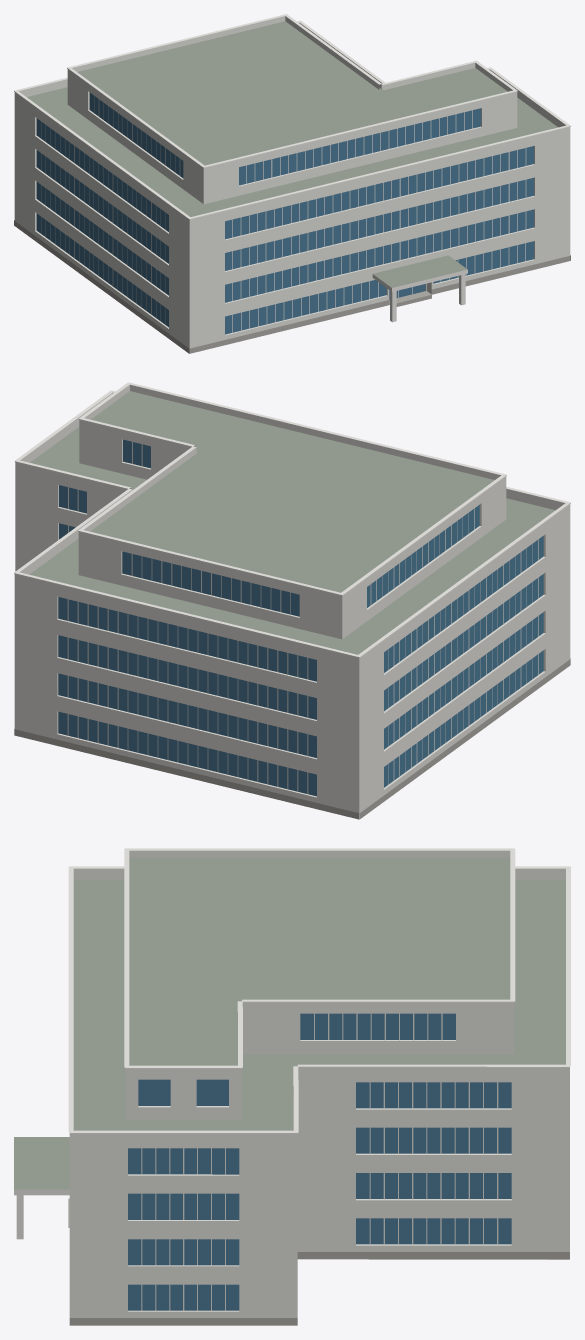
The picture shows the model from 3 angles, top to bottom: view 1: azimuth 30°, elevation 25°; view 2: azimuth 150°, elevation 25°; view 3: azimuth 270°, elevation 25°; orthographic projection. The views are drawn at different scales.
Parts seen in each view (by area): view 1: helen__wall, helen__roof, helen__glass, helen__parapet, helen__frame, helen__trim, helen__base; view 2: helen__wall, helen__roof, helen__glass, helen__parapet, helen__frame, helen__trim, helen__base; view 3: helen__roof, helen__wall, helen__glass, helen__parapet, helen__trim, helen__base, helen__frame.
Boxes of the visible parts, box(x1,y1,x2,y2) form: helen__wall: box(14, 73, 570, 353); helen__roof: box(27, 21, 557, 287); helen__glass: box(36, 92, 533, 334); helen__parapet: box(14, 16, 570, 226); helen__frame: box(41, 96, 526, 332); helen__trim: box(14, 14, 570, 291); helen__base: box(14, 220, 570, 353); helen__wall: box(14, 425, 570, 819); helen__roof: box(29, 391, 555, 654); helen__glass: box(58, 439, 543, 796); helen__parapet: box(14, 384, 570, 666); helen__frame: box(67, 442, 538, 794); helen__trim: box(14, 382, 570, 657); helen__base: box(14, 658, 570, 819); helen__roof: box(14, 858, 565, 1259); helen__wall: box(69, 1009, 569, 1317); helen__glass: box(128, 1013, 511, 1310); helen__parapet: box(69, 850, 569, 1143); helen__trim: box(14, 848, 570, 1195); helen__base: box(68, 1198, 569, 1325); helen__frame: box(141, 1013, 498, 1310).
Bounding box in the file's own units: 45.35 × 19 × 40.06.
